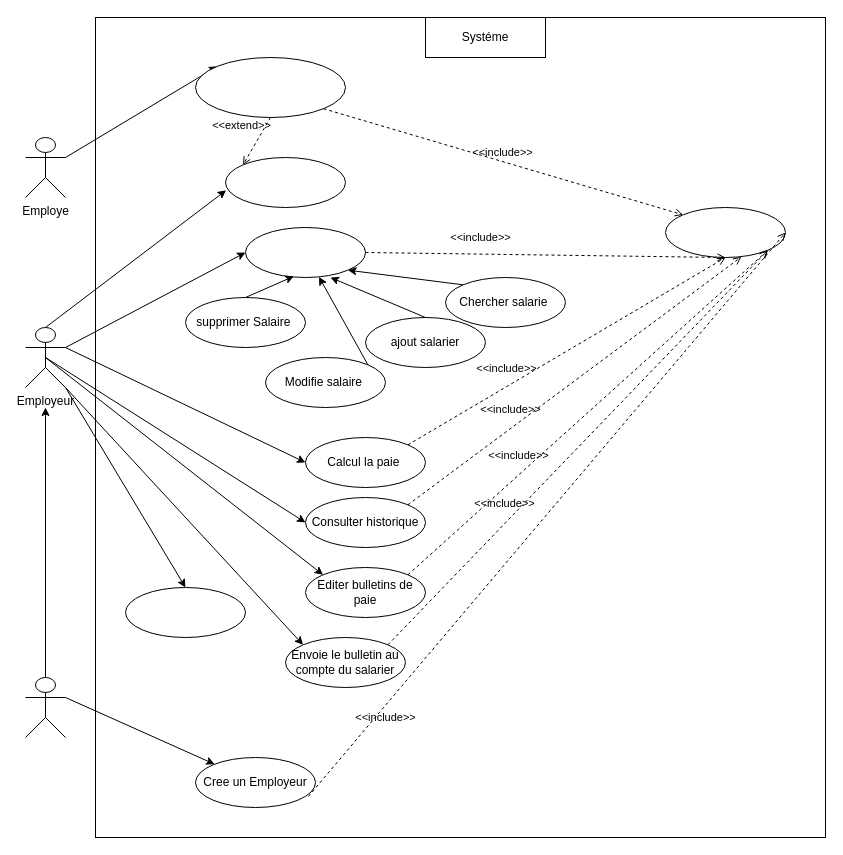
This 843x855 diagram has some shape labels left out. Each missing label, with the centre of its shape:
Admin: the point at 45,707
Consulter bulletin de paie: the point at 285,182
Cree element de paie et bulletin paie: the point at 185,612
Gestion des salariés: the point at 305,252
s'authentifier: the point at 725,232
Telecharger le bulletin de baie: the point at 270,87
